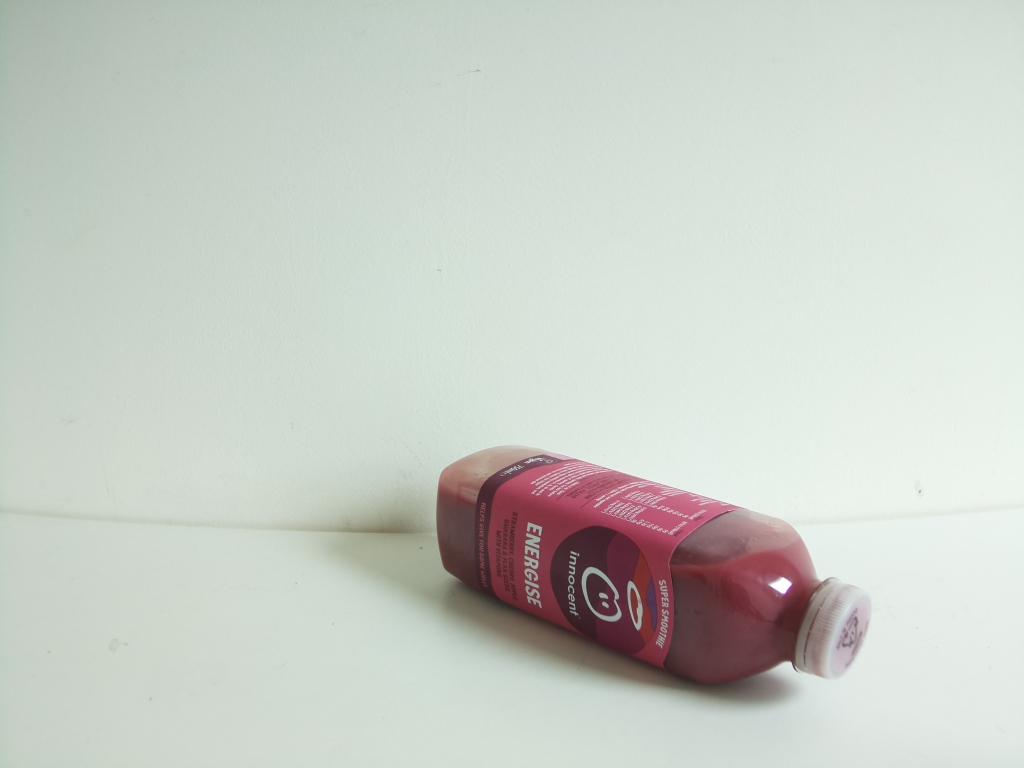juice: (431, 438, 877, 687)
